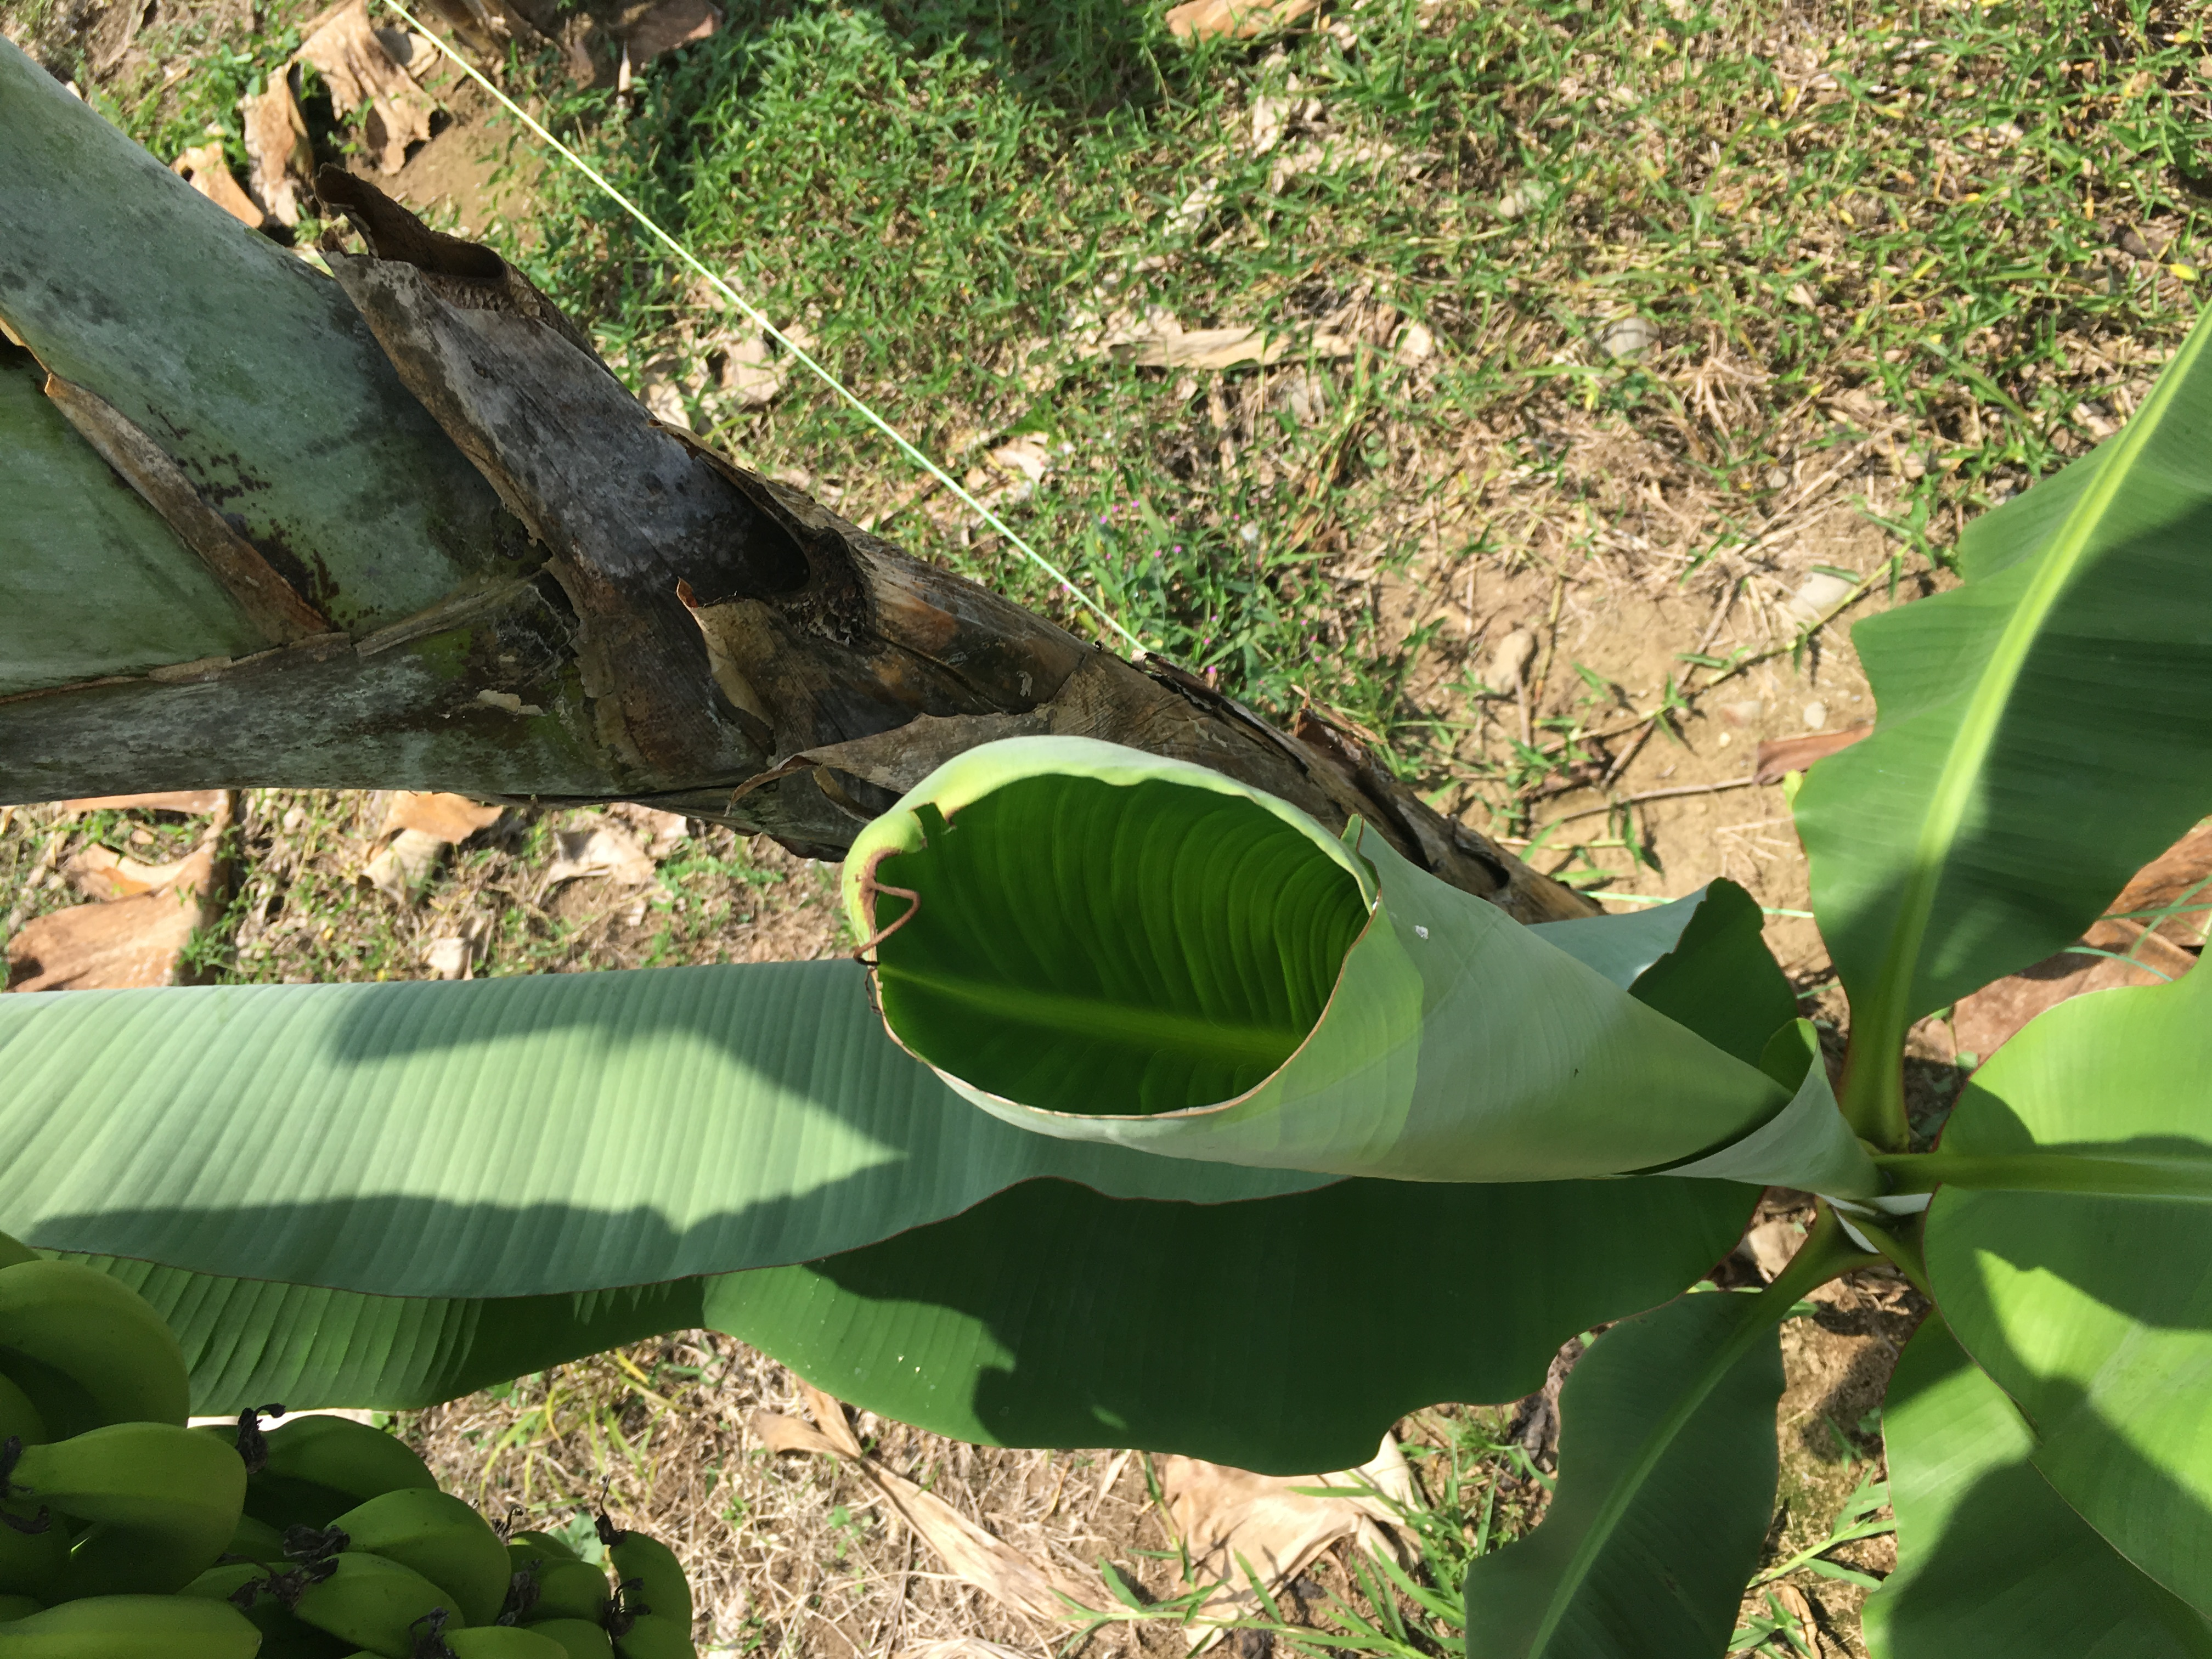candleleafs: (831, 732, 1855, 1215)
